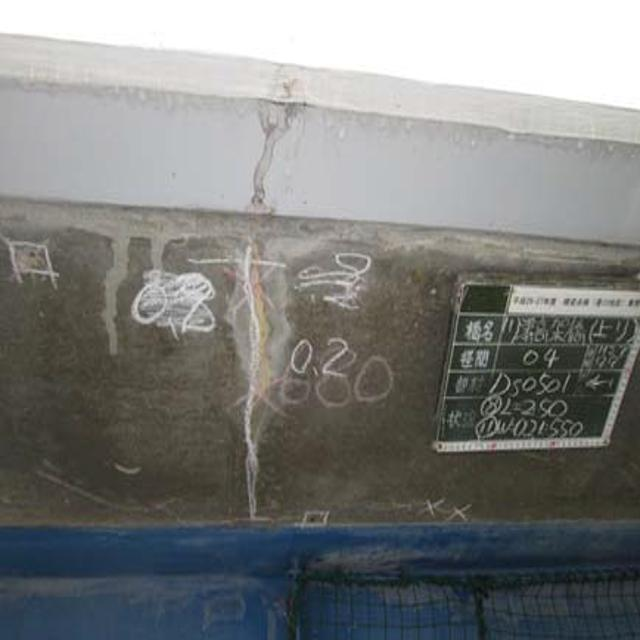freelime: (217, 252, 280, 512)
